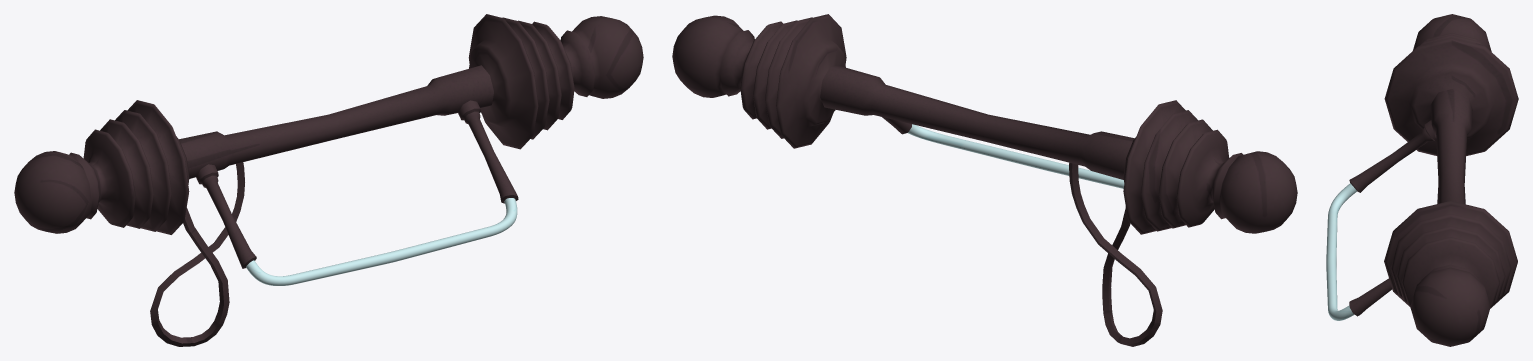
The model's file is Grapple_Hang.fbx.
The picture shows the model from 3 angles, left to right: view 1: azimuth 30°, elevation 25°; view 2: azimuth 150°, elevation 25°; view 3: azimuth 270°, elevation 25°; orthographic projection. The views are drawn at different scales.
Visible parts, largest first — view 1: SnapPointLedge_LOD0; view 2: SnapPointLedge_LOD0; view 3: SnapPointLedge_LOD0.
Boxes of the visible parts, x1,y1,x2,y2 form: SnapPointLedge_LOD0: (14,14,643,346); SnapPointLedge_LOD0: (672,14,1297,346); SnapPointLedge_LOD0: (1326,14,1518,346).
Bounding box in the file's own units: 4.33 × 1.69 × 1.22.
2 materials, 2 textured.
